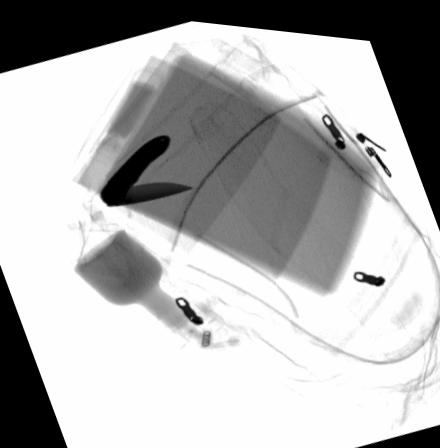Knife: (96, 129, 196, 206)
